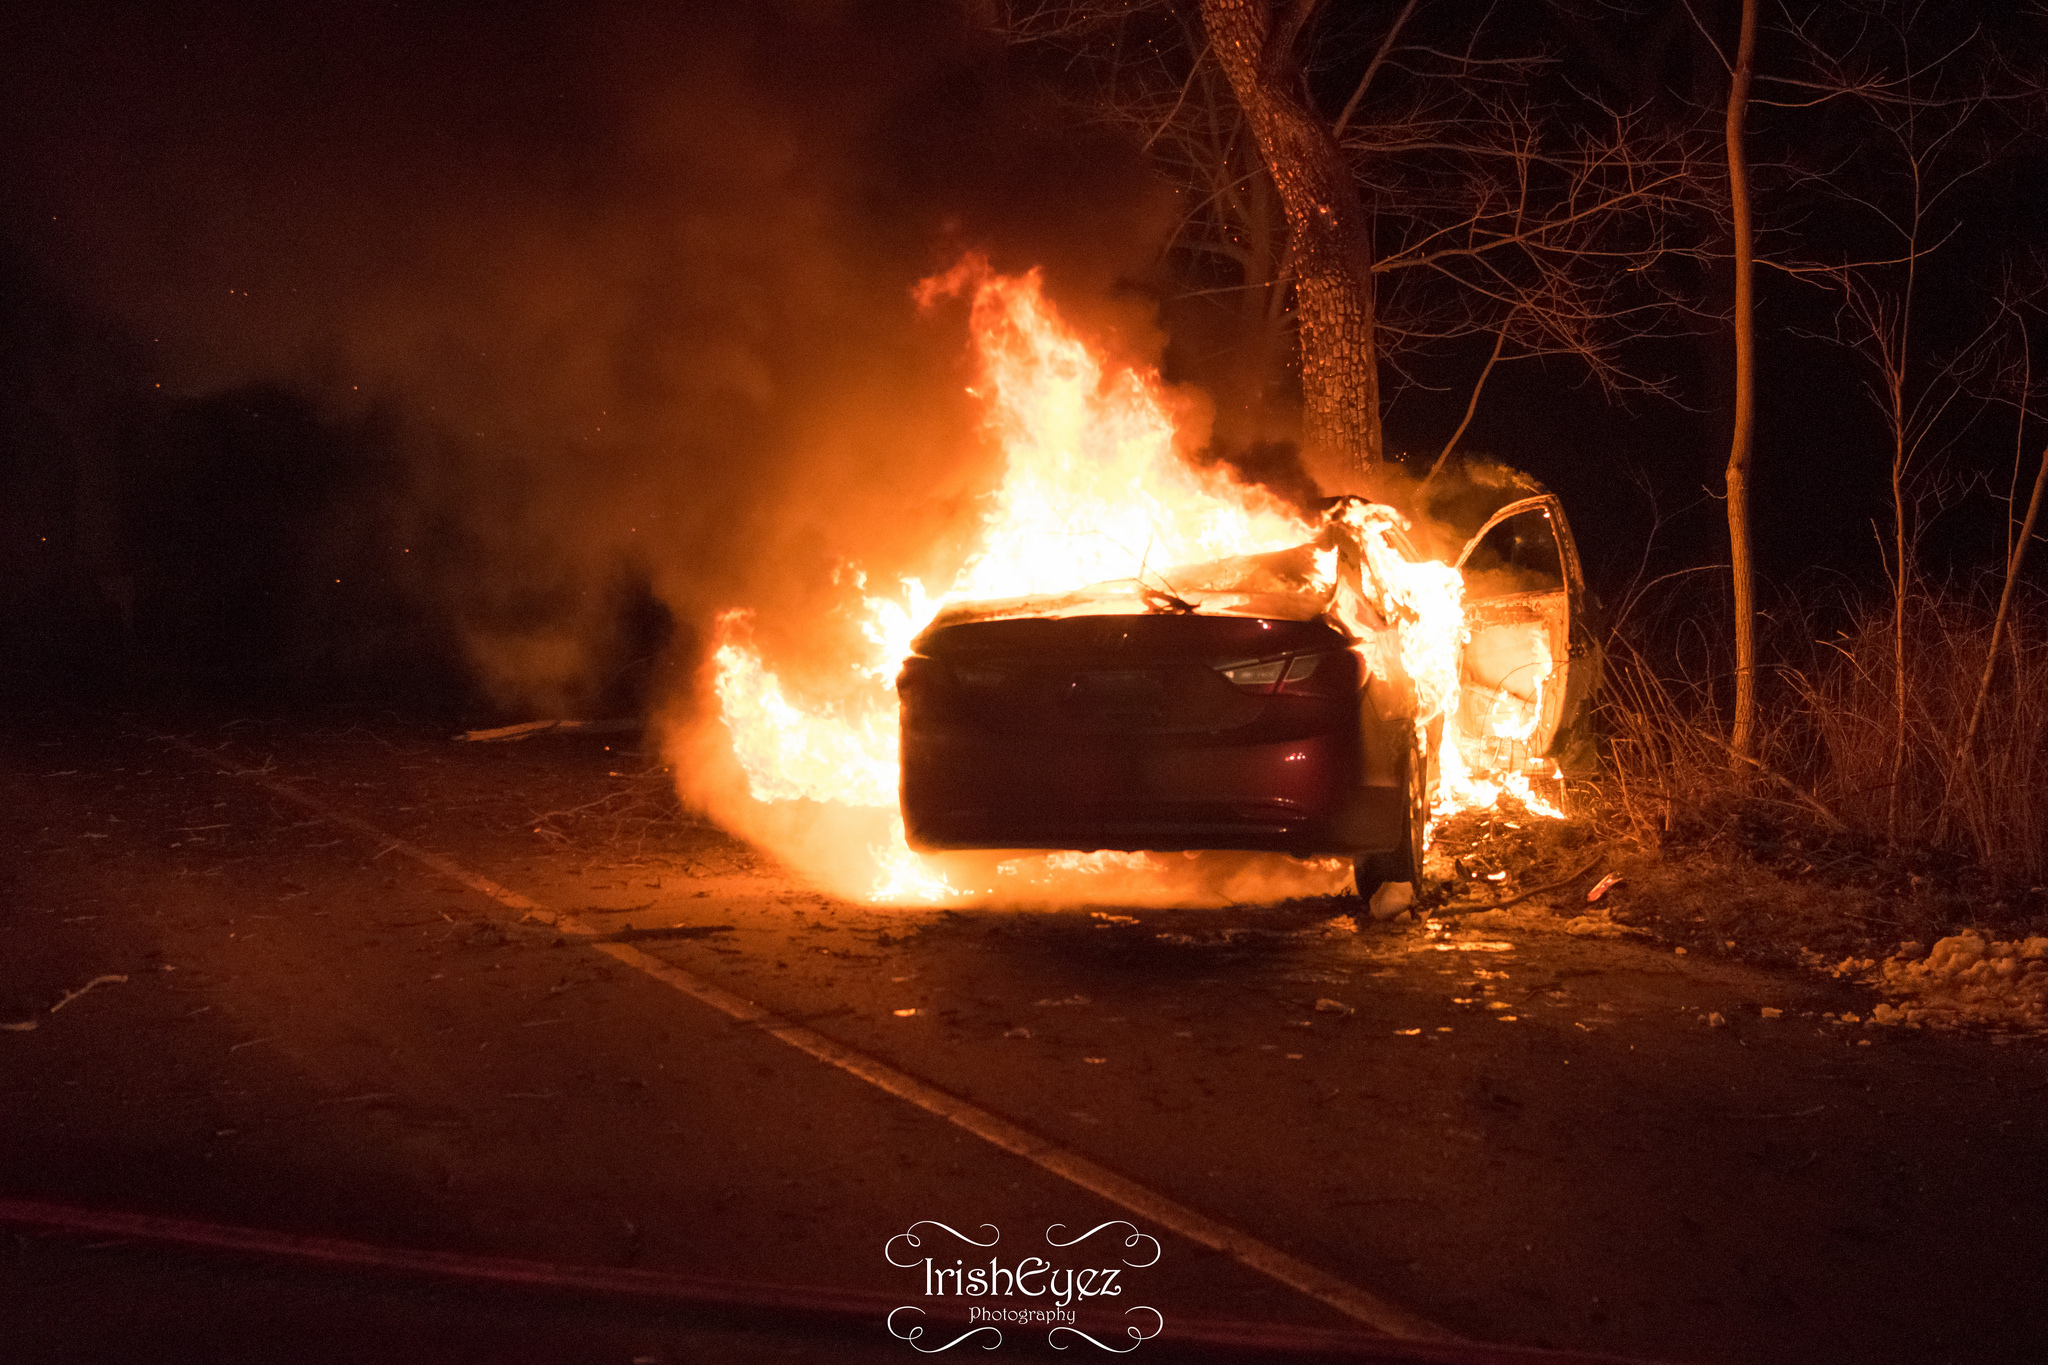fire: (662, 309, 1587, 917)
